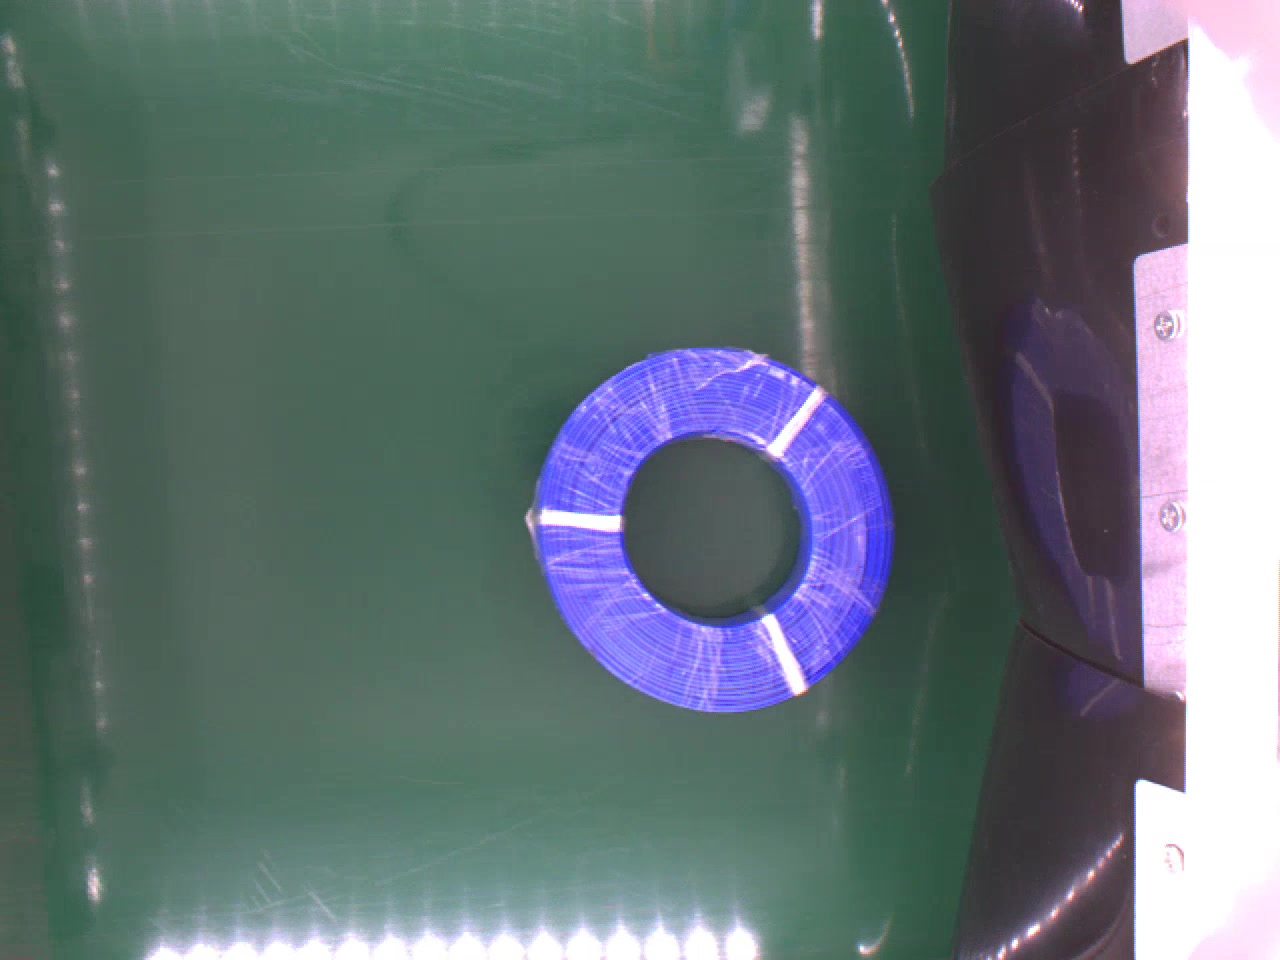blue: (529, 344, 893, 713)
